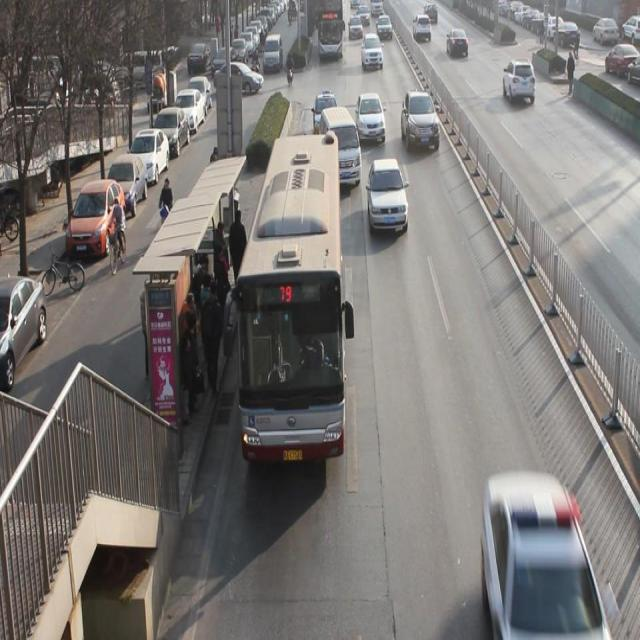car: (483, 478, 605, 622), (368, 161, 408, 235), (400, 92, 442, 155), (356, 96, 388, 142), (505, 61, 537, 103), (314, 93, 338, 137), (361, 34, 383, 70), (447, 30, 469, 57), (414, 14, 433, 43), (376, 16, 395, 42), (349, 15, 362, 43)
truck: (321, 108, 361, 188)
van: (235, 139, 346, 468), (317, 1, 343, 63)
